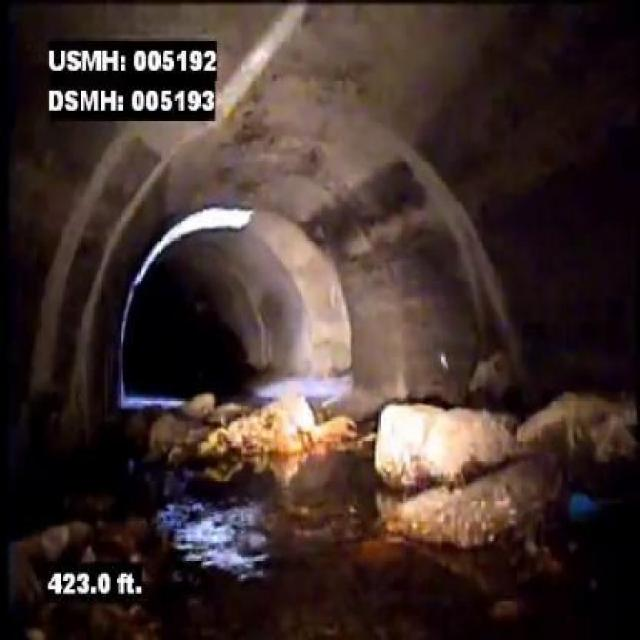Obstacle: (372, 397, 551, 555), (154, 394, 358, 463)
